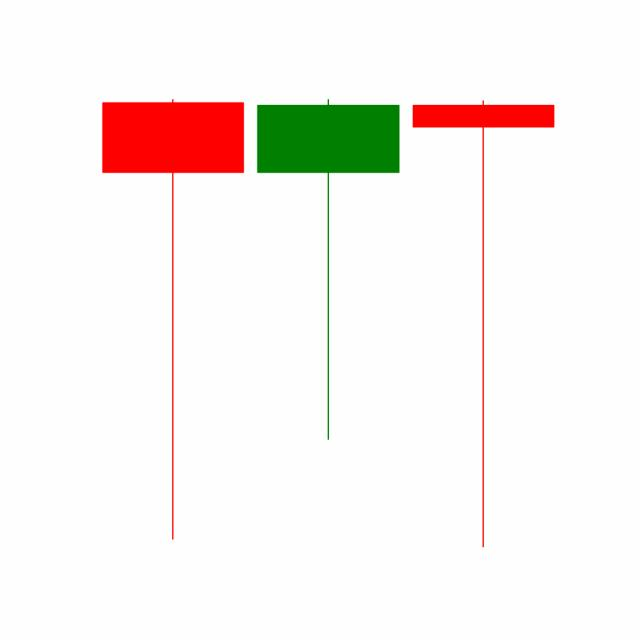Hanging Man: (249, 96, 406, 443)
